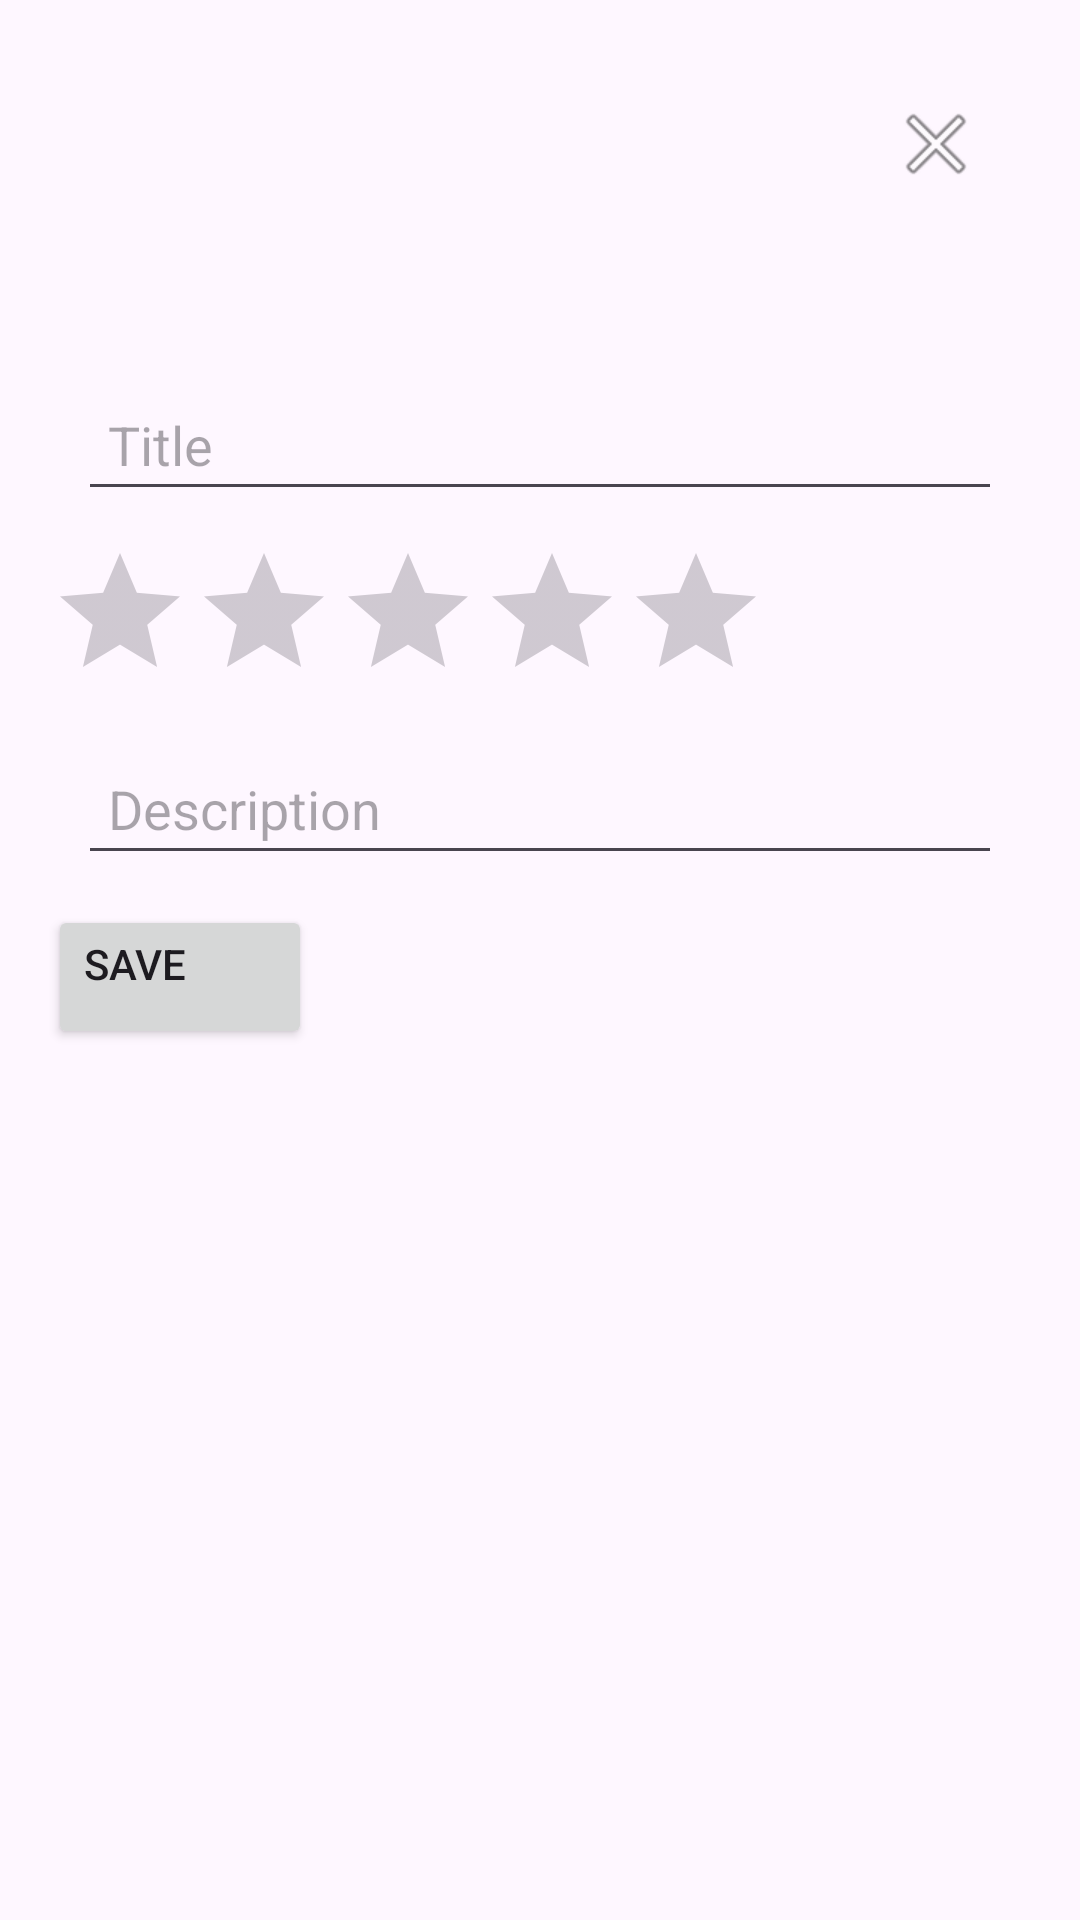

Screen size 1080px×1920px. Icon name, then its center in pixels as (x,y):
Close: (936,144)
